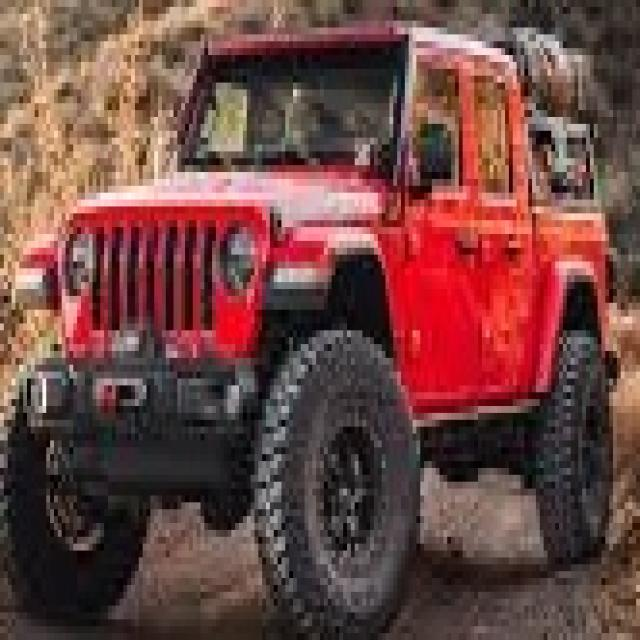red: (28, 26, 616, 593)
